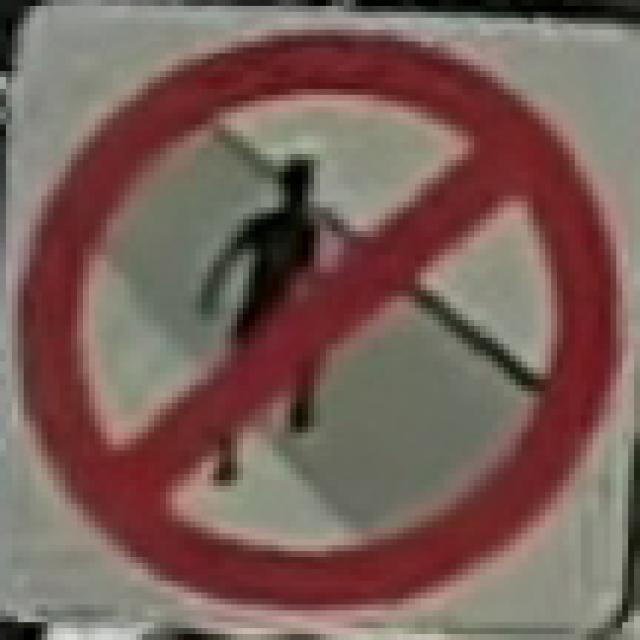nojaywalking_sign: (0, 0, 634, 634)
